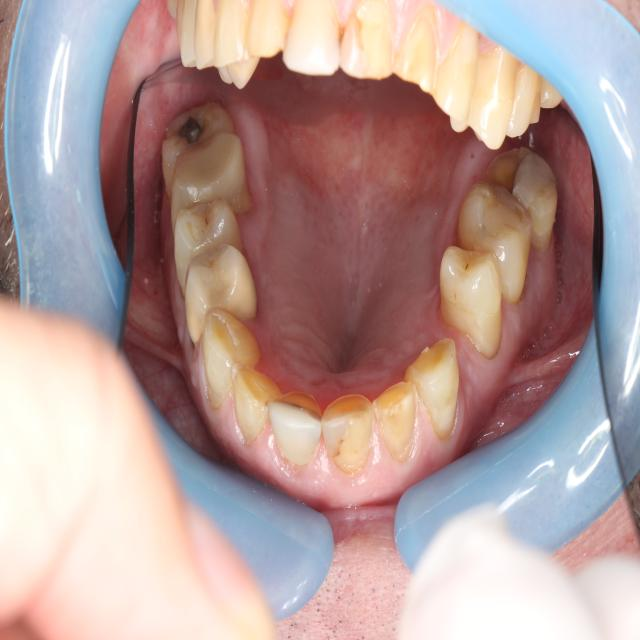tooth: (156, 94, 260, 223), (451, 171, 536, 311), (483, 137, 562, 259), (179, 238, 261, 354), (436, 235, 507, 362), (171, 189, 245, 307), (197, 303, 265, 412), (401, 331, 465, 444), (266, 374, 323, 475), (321, 388, 380, 485), (225, 352, 280, 453), (370, 375, 422, 470)
